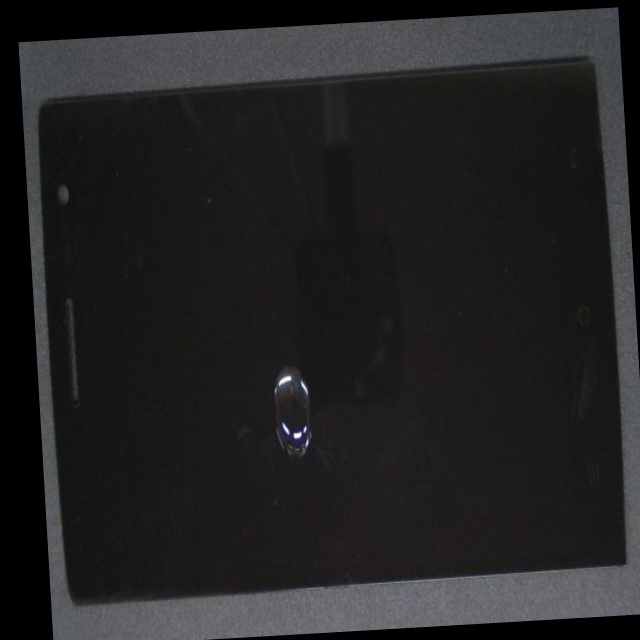oil: (181, 211, 450, 560)
